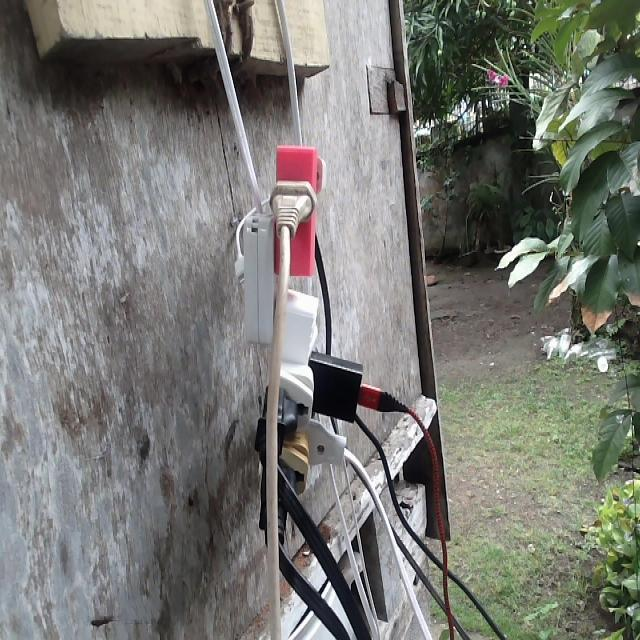-: (242, 144, 422, 559)
